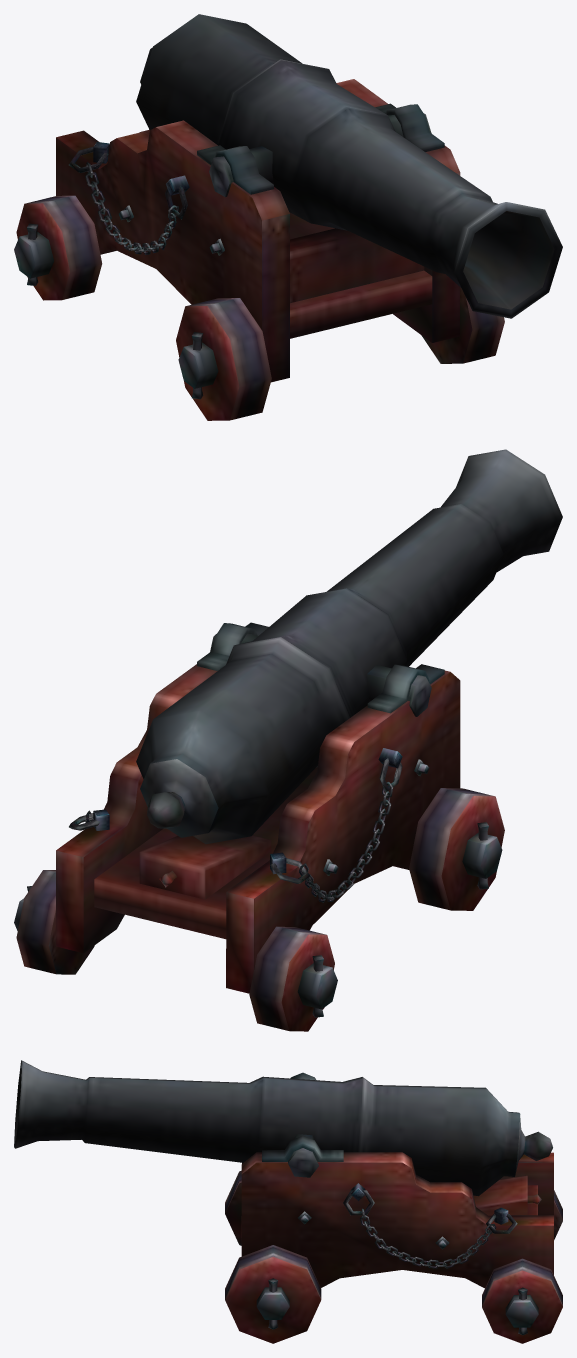
Rendered from cannon.glb.
3 views of the same model, one above another, from view 1: azimuth 30°, elevation 25°; view 2: azimuth 150°, elevation 25°; view 3: azimuth 270°, elevation 25° (orthographic). The views are drawn at different scales.
Parts seen in each view (by area): view 1: cannon_body_static; view 2: cannon_body_static; view 3: cannon_body_static.
Part boxes in pixels (x1,y1,x2,y2): cannon_body_static: [14, 14, 562, 420]; cannon_body_static: [14, 449, 562, 1031]; cannon_body_static: [14, 1060, 562, 1343].
Size of the model in its own units: 1.08 by 1.05 by 2.25.
1 material, 1 textured.
